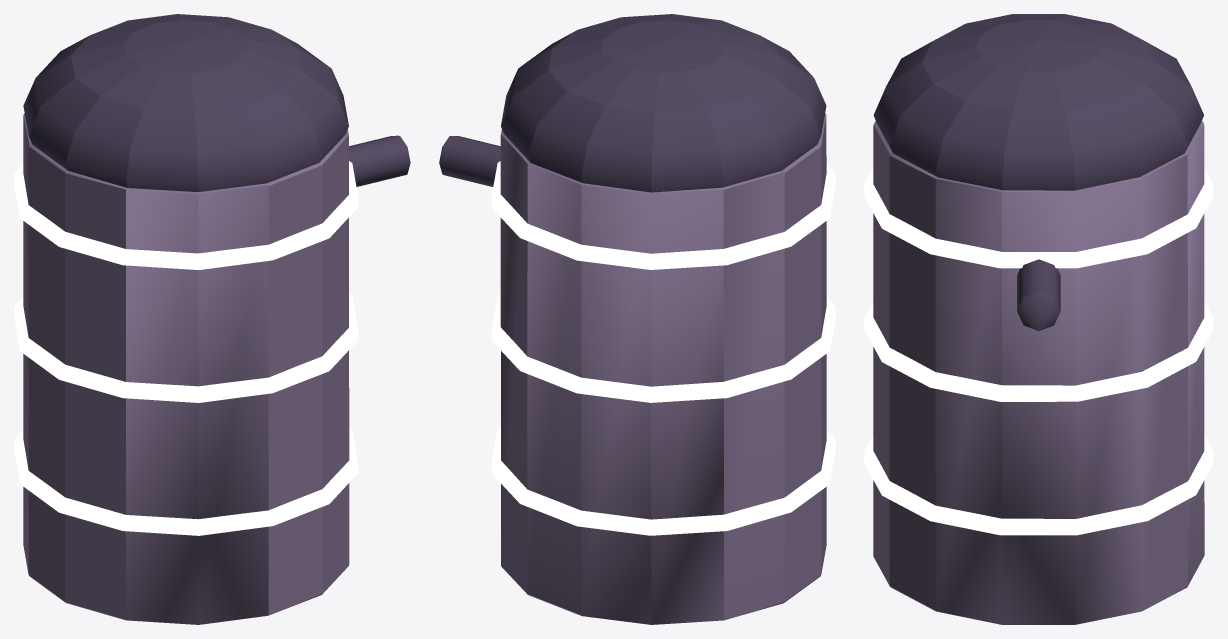
Rendered from SM_Labor_Tank_LOD1.fbx.
3 views of the same model, side by side, from view 1: azimuth 30°, elevation 25°; view 2: azimuth 150°, elevation 25°; view 3: azimuth 270°, elevation 25° (orthographic).
Parts seen in each view (by area): view 1: SM_Labor_Tank_LOD1; view 2: SM_Labor_Tank_LOD1; view 3: SM_Labor_Tank_LOD1.
Boxes of the visible parts, left/top/right/bottom form: SM_Labor_Tank_LOD1: left=14, top=14, right=410, bottom=624; SM_Labor_Tank_LOD1: left=439, top=14, right=835, bottom=624; SM_Labor_Tank_LOD1: left=864, top=14, right=1213, bottom=624.
Size of the model in its own units: 2.28 by 3.1 by 1.9.
